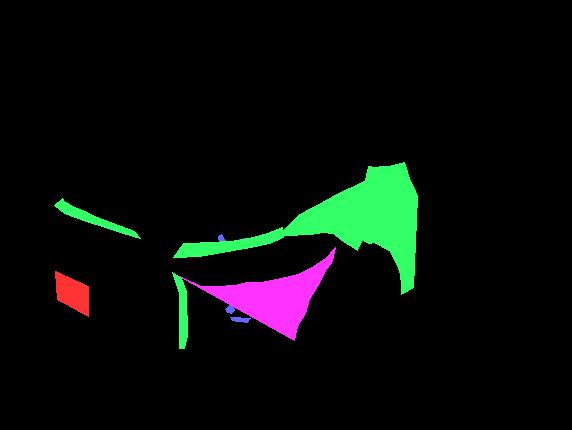Broken part: (283, 162, 417, 294), (54, 198, 140, 238), (173, 227, 283, 257), (172, 272, 187, 348)
Dent: (179, 247, 335, 340)
Missing part: (55, 271, 88, 316)
Scratch: (328, 200, 336, 230), (292, 217, 309, 228), (218, 234, 228, 246), (230, 317, 250, 322), (225, 305, 234, 313), (228, 238, 245, 242), (253, 310, 263, 316)
